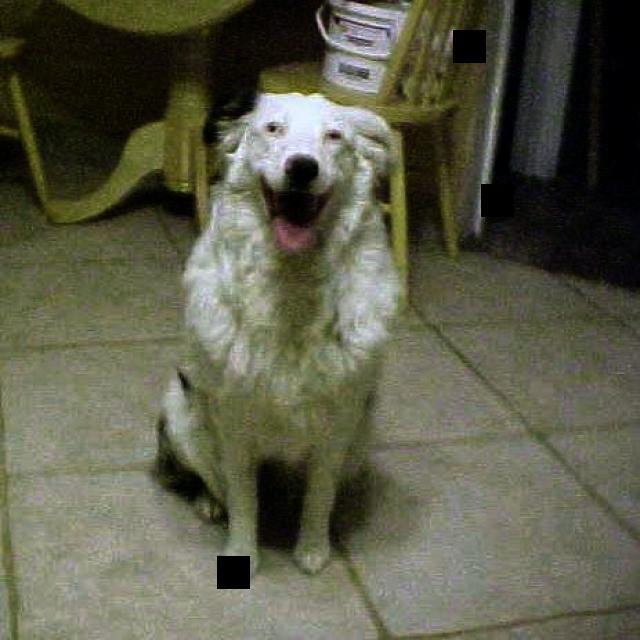adult_dog: (145, 83, 406, 574)
